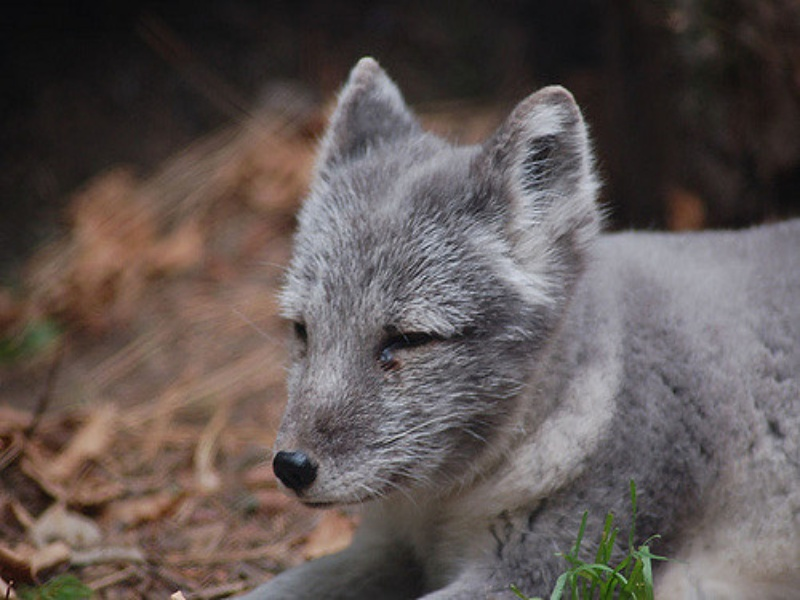fox: (270, 57, 800, 599)
